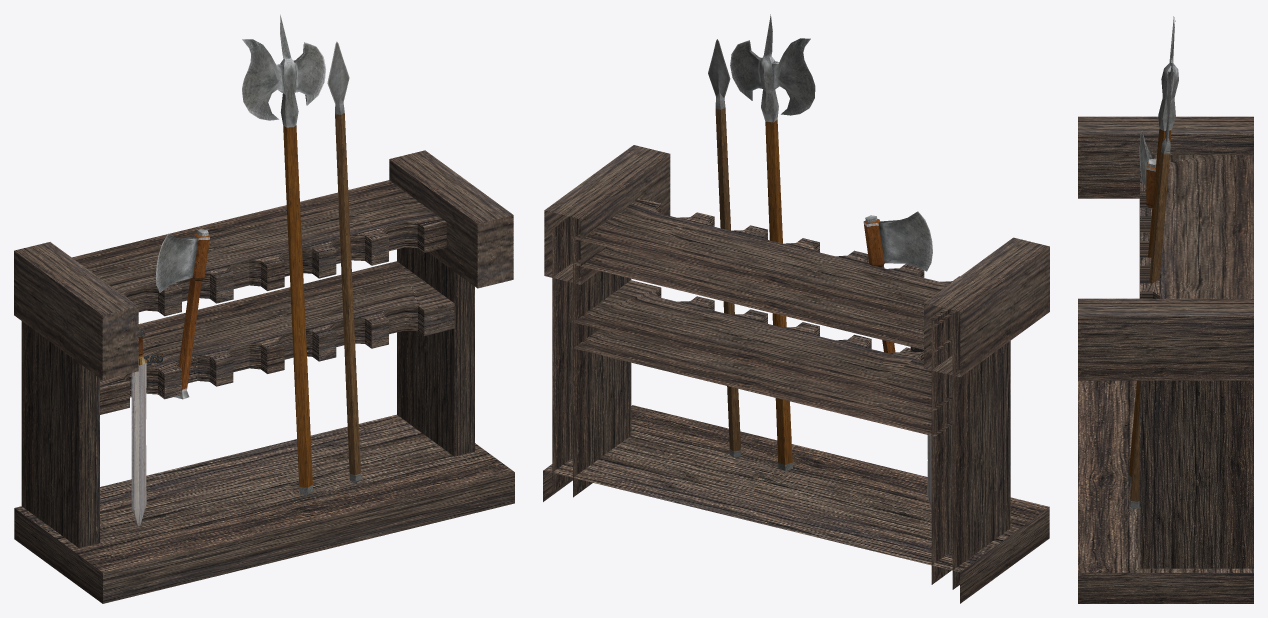
Rendered from mm9_deco_weaponracknsnewg1.glb.
3 views of the same model, side by side, from view 1: azimuth 30°, elevation 25°; view 2: azimuth 150°, elevation 25°; view 3: azimuth 270°, elevation 25° (orthographic).
Parts seen in each view (by area): view 1: Weaponracknsnewg1; view 2: Weaponracknsnewg1; view 3: Weaponracknsnewg1.
Part boxes in pixels (<box>): Weaponracknsnewg1: <box>14,14,514,603</box>; Weaponracknsnewg1: <box>543,14,1049,603</box>; Weaponracknsnewg1: <box>1078,16,1253,603</box>.
Bounding box in the file's own units: 1.95 × 2.26 × 0.7263.
Materials: 2 (2 with a texture image).
